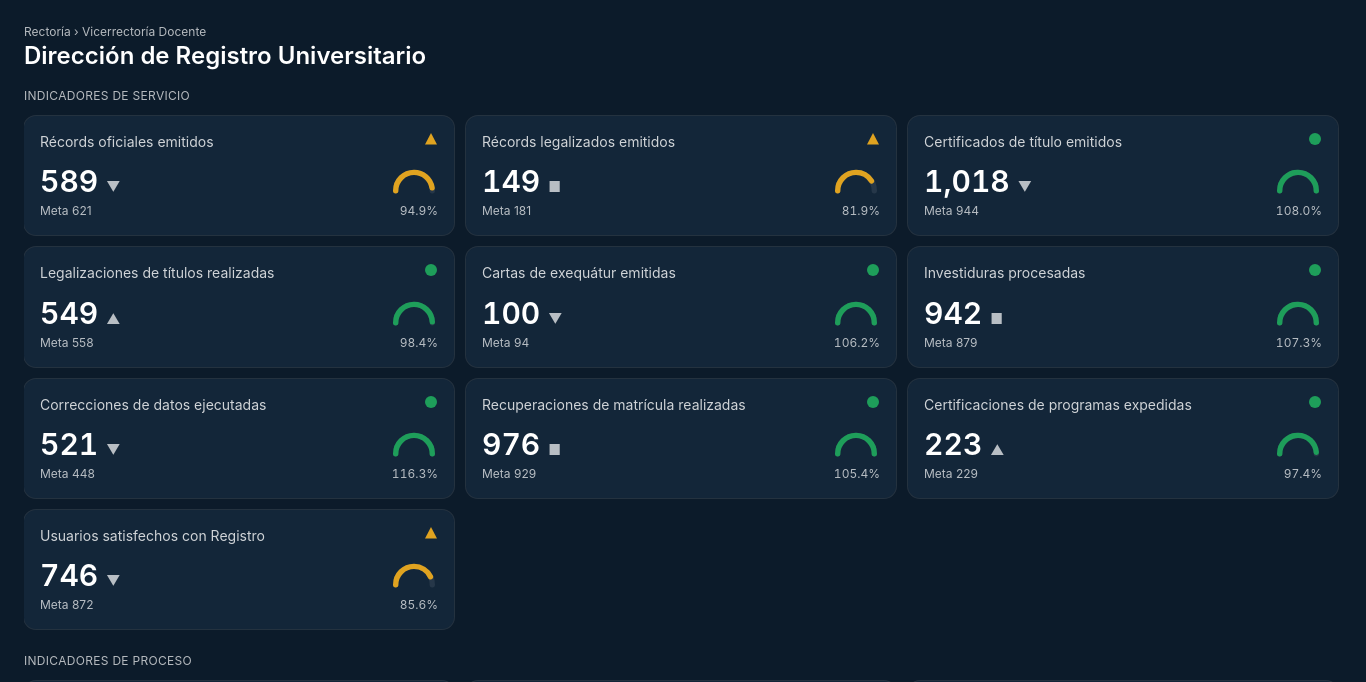
Test: Unidad › el diálogo dibuja dos ventanas superpuestas con el período 'Comparativo'
This screenshot has width=1366, height=682.
Click the text "Récords oficiales emitidos": (127,142) [40,132,214,151]
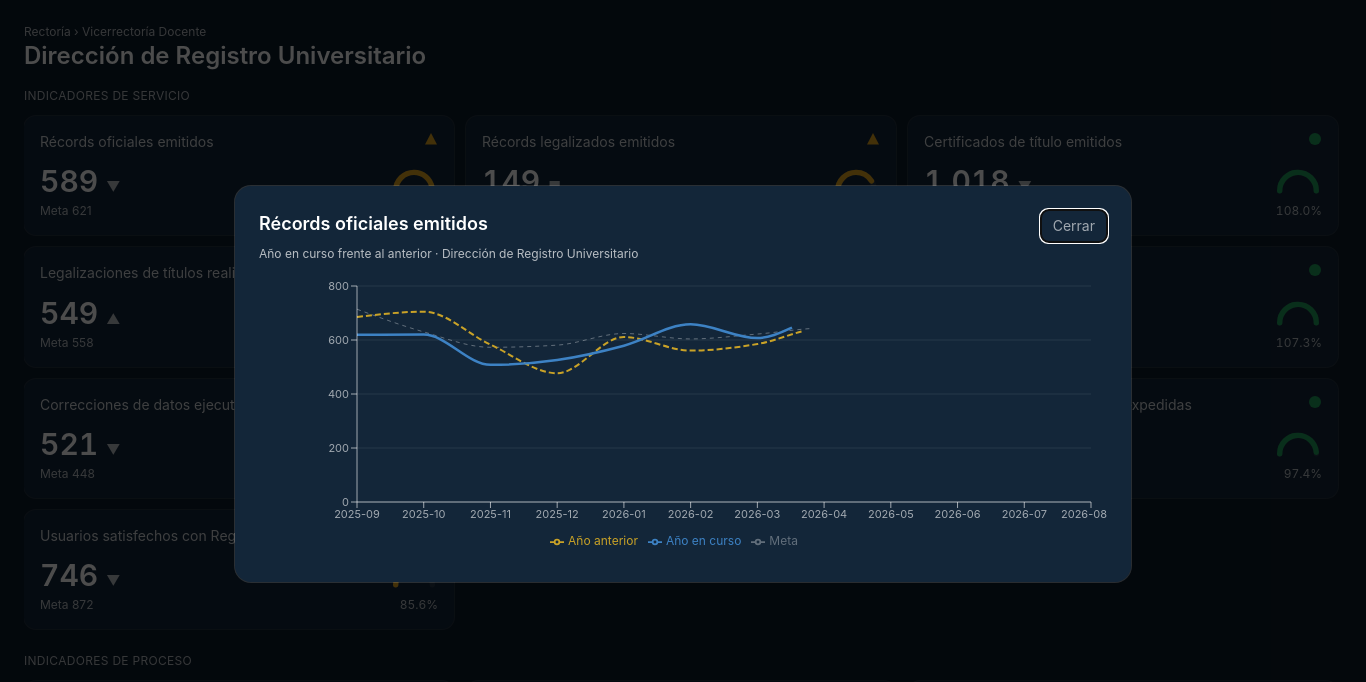
Expected: the text "Año en curso frente al anterior" is shown, [259,246,432,261]
